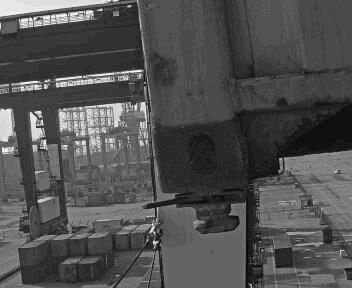twist_lock_1: (144, 185, 232, 240)
